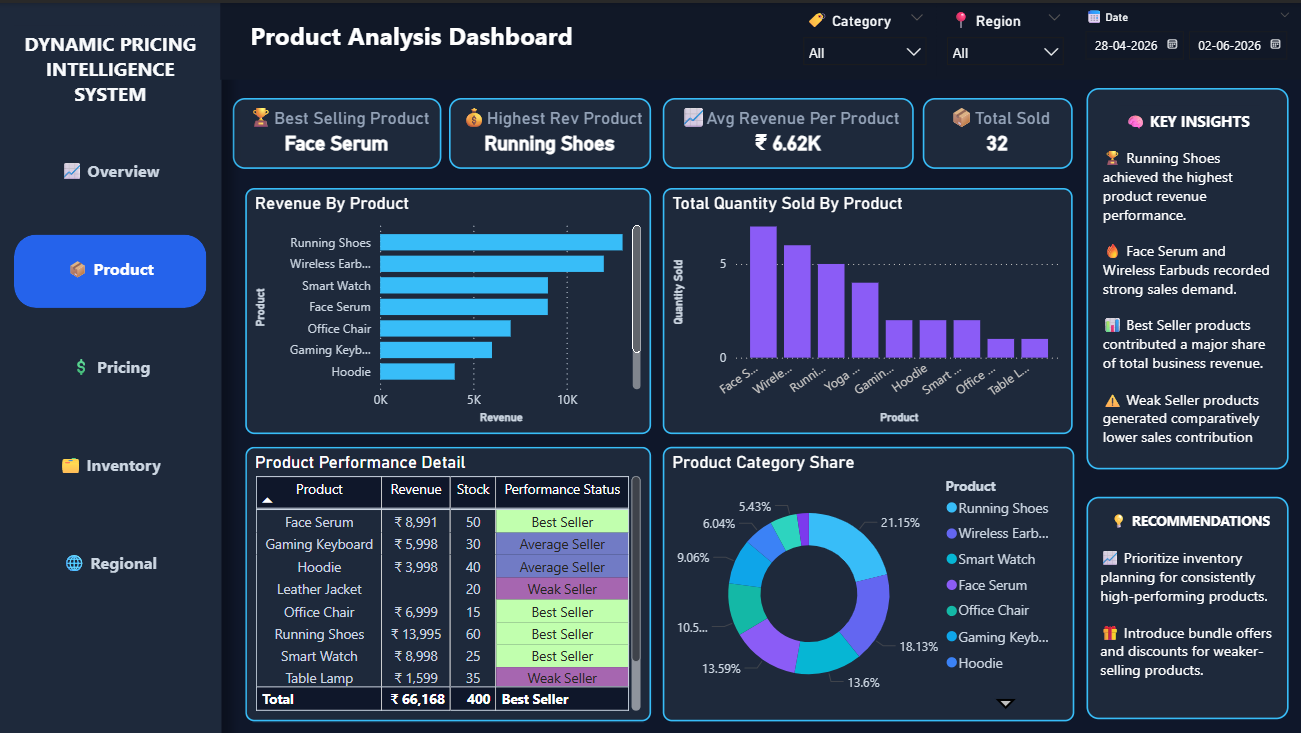

What the dashboard file says about the page in this screenshot:
{"tool":"powerbi","page":{"name":"📦 Product","canvas":[1280,720],"ordinal":1},"visuals":[{"type":"textbox","box":[229.4,22.1,274.8,36.8],"z":0},{"type":"card","title":"🏆Best Selling Product","fields":{"Values":["sales.Best Selling Product"]},"box":[229.4,93.3,204.9,69.9],"z":1000},{"type":"card","title":"💰Highest Rev Product","fields":{"Values":["sales.Highest Revenue Product"]},"box":[441.7,93.3,198.8,69.9],"z":2000},{"type":"card","title":"📈Avg Revenue Per Product","fields":{"Values":["sales.Avg Revenue Per Product"]},"box":[651.5,93.3,246.6,69.9],"z":3000},{"type":"card","title":"📦Total Sold","fields":{"Values":["sales.Total Products Sold"]},"box":[906.8,93.3,147.2,69.9],"z":4000},{"type":"clusteredBarChart","title":"Revenue By Product","fields":{"Category":["product.prodName"],"Y":["sales.Revenue"]},"box":[241.7,181.6,398.8,241.7],"z":5000},{"type":"clusteredColumnChart","title":"Total Quantity Sold By Product","fields":{"Category":["product.prodName"],"Y":["sales.Total Quantity Sold"]},"box":[651.5,181.6,402.5,241.7],"z":6000},{"type":"donutChart","title":"Product Category Share","fields":{"Category":["product.prodName"],"Y":["sales.Revenue"]},"box":[651.5,435.6,403.7,269.9],"z":7000},{"type":"tableEx","title":"Product Performance Detail","fields":{"Values":["product.prodName","sales.Revenue","Sum(product.stock)","sales.Performance Status"]},"box":[241.7,435.6,398.8,269.9],"z":8000},{"type":"textbox","box":[0,0,218.4,720.2],"z":9000},{"type":"textbox","box":[14.9,22.4,189.1,88.3],"z":10000},{"type":"pageNavigator","box":[14.9,131.9,189.1,456.5],"z":11000},{"type":"textbox","box":[217.2,0,1062.6,75],"z":12000},{"type":"textbox","box":[241.7,11,384.1,50.3],"z":13000},{"type":"slicer","fields":{"Values":["category.categoryName"]},"box":[779.1,0,141.1,72.4],"z":14000},{"type":"slicer","fields":{"Values":["sales.region"]},"box":[920.3,0,135,72.4],"z":15000},{"type":"slicer","fields":{"Values":["dates.Date"]},"box":[1054,0,225.8,72.4],"z":16000},{"type":"textbox","box":[1067.5,83.4,198.8,374.2],"z":17000},{"type":"textbox","box":[1078.5,137.4,181.6,312.9],"z":18000},{"type":"textbox","box":[1100.6,100.6,137.4,30.7],"z":19000},{"type":"textbox","box":[1067.5,484.7,198.8,218.4],"z":20000},{"type":"textbox","box":[1081,494.5,175.5,35.6],"z":21000},{"type":"textbox","box":[1076.1,530.1,181.6,158.3],"z":22000}]}

Visuals, with their boxes in screenshot pixels (x1, y1, x2, y2), scaled from the page's 1280x720 canvas onto the 1301x733 screenshot:
textbox: 233,22,512,60
"🏆Best Selling Product" card: 233,95,441,166
"💰Highest Rev Product" card: 449,95,651,166
"📈Avg Revenue Per Product" card: 662,95,913,166
"📦Total Sold" card: 922,95,1071,166
"Revenue By Product" clusteredBarChart: 246,185,651,431
"Total Quantity Sold By Product" clusteredColumnChart: 662,185,1071,431
"Product Category Share" donutChart: 662,443,1073,718
"Product Performance Detail" tableEx: 246,443,651,718
textbox: 0,0,222,732
textbox: 15,23,207,113
pageNavigator: 15,134,207,599
textbox: 221,0,1300,76
textbox: 246,11,636,62
slicer - category.categoryName: 792,0,935,74
slicer - sales.region: 935,0,1073,74
slicer - dates.Date: 1071,0,1300,74
textbox: 1085,85,1287,466
textbox: 1096,140,1281,458
textbox: 1119,102,1258,134
textbox: 1085,493,1287,716
textbox: 1099,503,1277,540
textbox: 1094,540,1278,701
